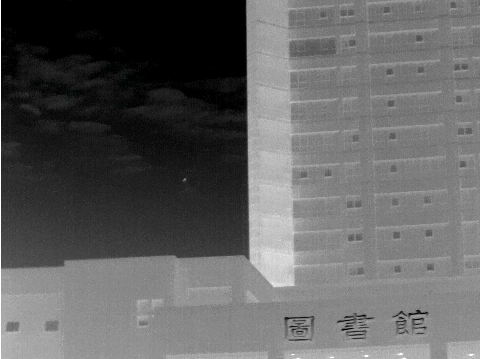dim target: (174, 169, 193, 186)
